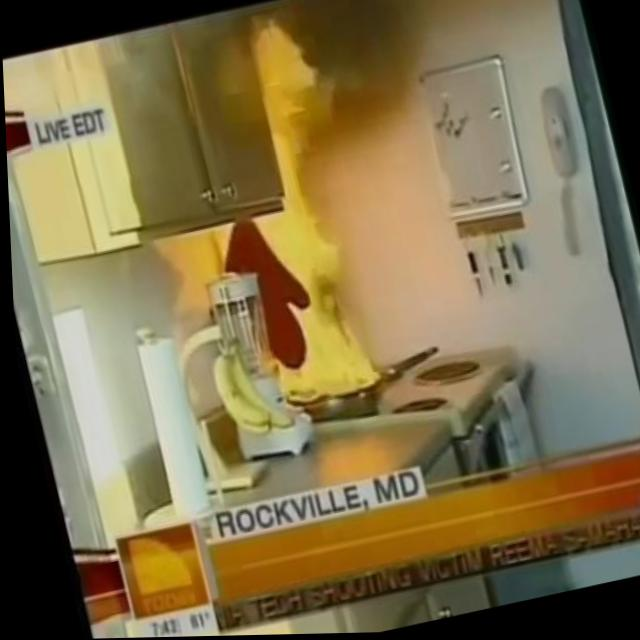fire: (230, 180, 394, 418)
